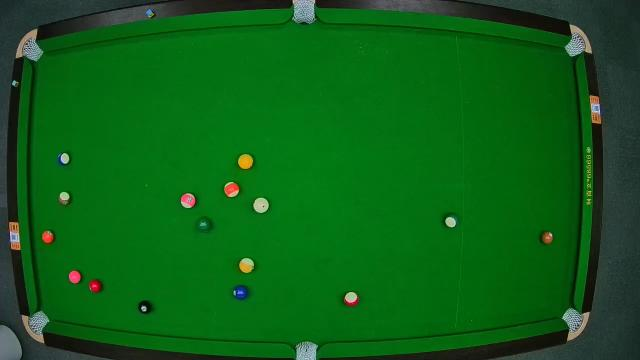bag1: (20, 40, 40, 62)
bag2: (292, 1, 318, 26)
bag3: (568, 33, 588, 57)
bag4: (28, 310, 48, 334)
bag5: (296, 340, 318, 360)
bag6: (561, 307, 583, 331)
ball0: (253, 196, 269, 214)
ball1: (237, 153, 255, 169)
ball10: (56, 150, 72, 166)
ball11: (344, 292, 360, 308)
ball12: (180, 192, 196, 209)
ball13: (224, 182, 240, 198)
ball14: (442, 212, 460, 229)
ball15: (56, 190, 72, 206)
ball2: (233, 285, 249, 301)
ball3: (88, 278, 102, 294)
ball4: (67, 270, 81, 284)
ball5: (42, 230, 54, 244)
ball6: (197, 216, 213, 234)
ball7: (538, 230, 554, 246)
ball8: (138, 300, 154, 314)
ball9: (240, 256, 254, 274)
